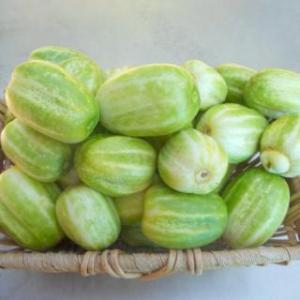cucumber: (5, 57, 100, 145), (91, 64, 202, 138), (70, 137, 160, 197)
